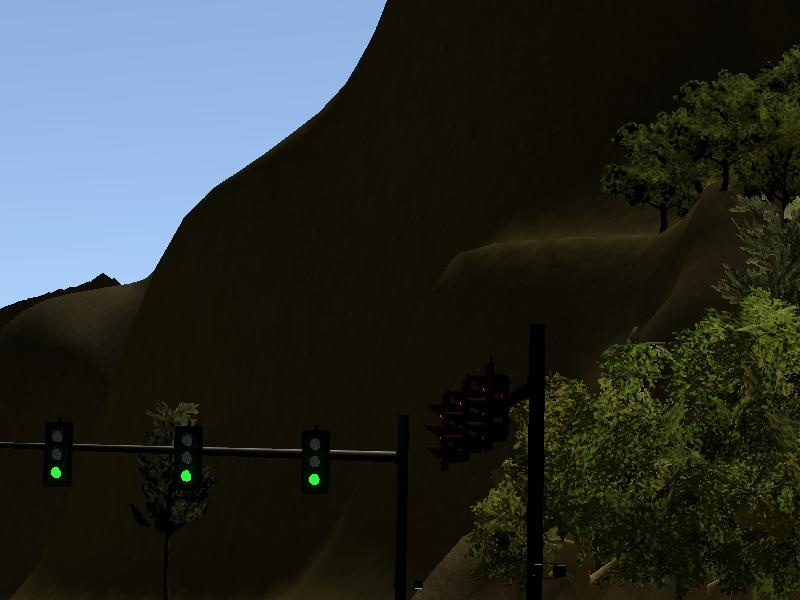GREEN: (171, 424, 202, 490), (300, 427, 331, 493), (41, 420, 72, 486)
